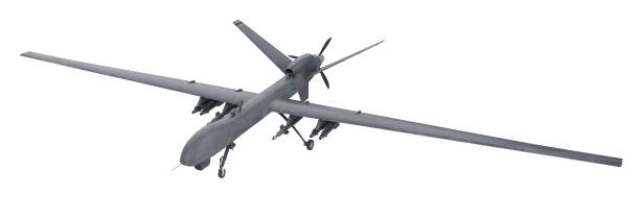military drone: (19, 20, 622, 178)
